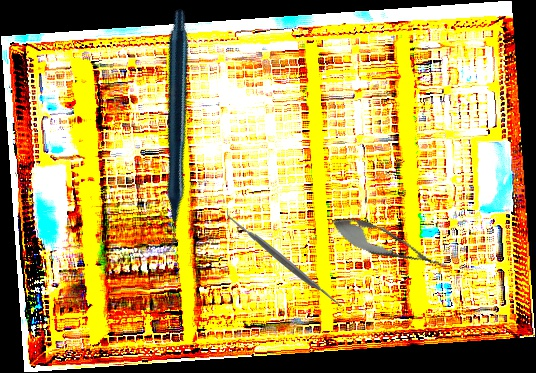Handpiece: (51, 6, 292, 259)
Micro Scissor: (326, 208, 452, 281)
Spatula Surgical: (227, 206, 341, 315)
